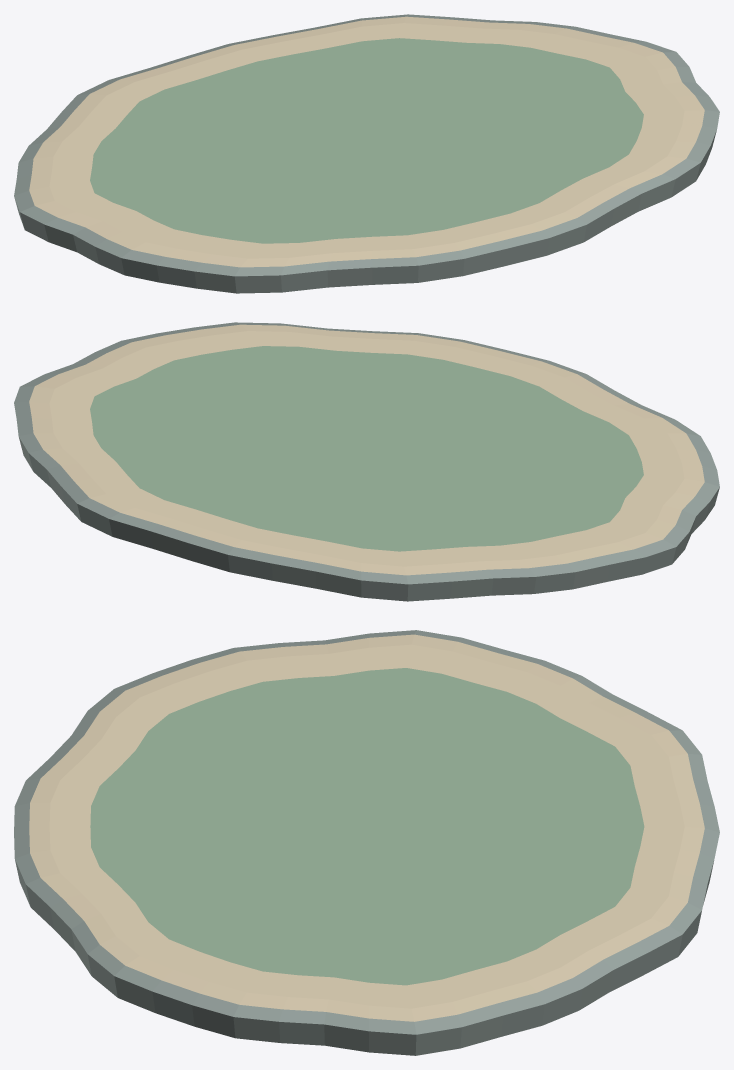
The model's file is half-island.glb.
3 views of the same model, one above another, from view 1: azimuth 30°, elevation 25°; view 2: azimuth 150°, elevation 25°; view 3: azimuth 270°, elevation 25° (orthographic). The views are drawn at different scales.
Visible parts, largest first — view 1: Half island terrain; view 2: Half island terrain; view 3: Half island terrain.
Boxes of the visible parts, <box> form: Half island terrain: <box>14,14,719,293</box>; Half island terrain: <box>14,322,719,601</box>; Half island terrain: <box>14,630,719,1055</box>.
Size of the model in its own units: 102 by 3.5 by 75.24.
